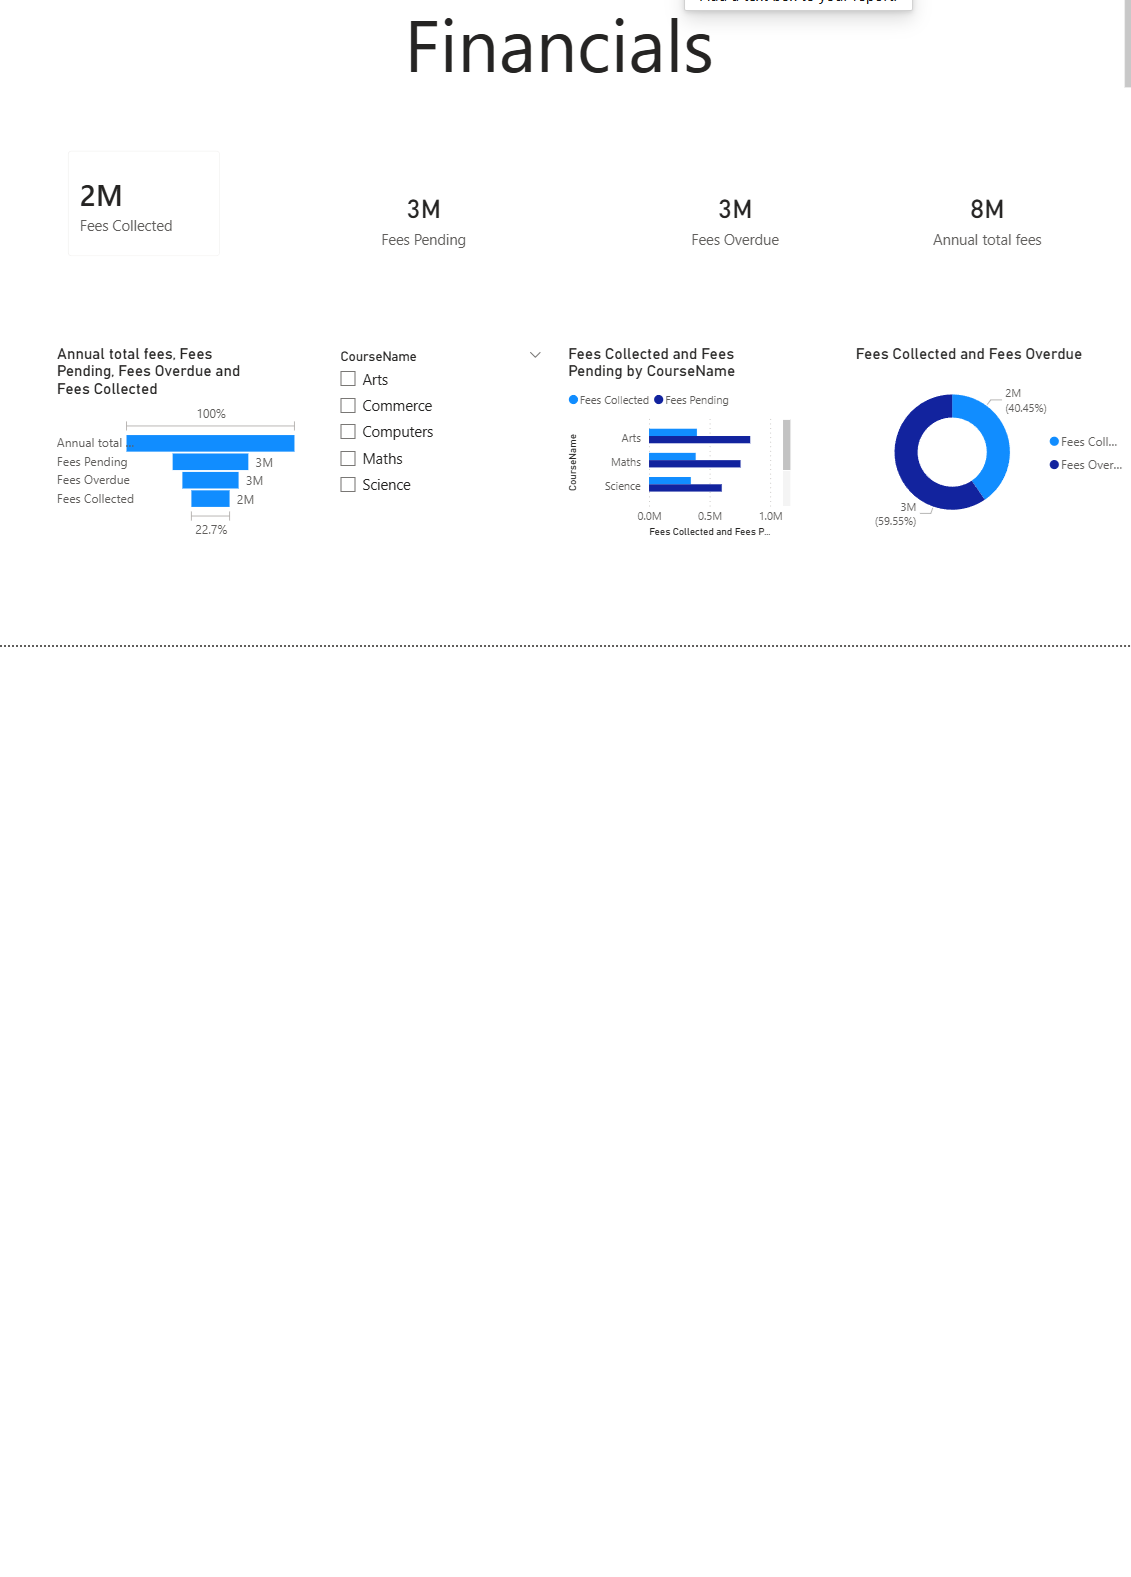

The page's visual inventory and layout, read from the dashboard file:
{"tool":"powerbi","page":{"name":"fees","canvas":[1280,720],"ordinal":3},"visuals":[{"type":"textbox","box":[22,0,1258.3,114.9],"z":0},{"type":"cardVisual","fields":{"Data":["Measures1.Total Fees collected"]},"box":[90.5,160.2,201.8,150.4],"z":1000},{"type":"card","fields":{"Values":["Measures1.Pending fees"]},"box":[375.4,176.1,244.6,150.4],"z":2000},{"type":"card","fields":{"Values":["Measures1.Annual total fees"]},"box":[953.8,176.1,326.5,150.4],"z":3000},{"type":"card","fields":{"Values":["Measures1.Fees Overdue"]},"box":[714.1,176.1,253.1,150.4],"z":6000},{"type":"slicer","fields":{"Values":["Dim_Courses.CourseName"]},"box":[393.8,389.7,245.6,216.8],"z":6001},{"type":"funnel","fields":{"Y":["Measures1.Annual total fees","Measures1.Fees Pending","Measures1.Fees Overdue","Measures1.Fees Collected"]},"box":[90.6,389.7,275.8,216.8],"z":6002},{"type":"clusteredBarChart","fields":{"Category":["Dim_Courses.CourseName"],"Y":["Measures1.Fees Collected","Measures1.Fees Pending"]},"box":[651.8,389.7,253.9,216.8],"z":6003},{"type":"donutChart","fields":{"Y":["Measures1.Fees Collected","Measures1.Fees Overdue"]},"box":[967,390,313,217],"z":6004}]}

Visuals, with their boxes on the page's 1280x720 design canvas (x1, y1, x2, y2). These are canvas units, not pixel positions in the 1131x1577 screenshot, which may show the page scaled, cropped or inside an application window:
textbox: {"left": 22, "top": 0, "right": 1280, "bottom": 115}
cardVisual - Measures1.Total Fees collected: {"left": 90, "top": 160, "right": 292, "bottom": 311}
card - Measures1.Pending fees: {"left": 375, "top": 176, "right": 620, "bottom": 326}
card - Measures1.Annual total fees: {"left": 954, "top": 176, "right": 1280, "bottom": 326}
card - Measures1.Fees Overdue: {"left": 714, "top": 176, "right": 967, "bottom": 326}
slicer - Dim_Courses.CourseName: {"left": 394, "top": 390, "right": 639, "bottom": 606}
funnel - Measures1.Annual total fees x Measures1.Fees Pending: {"left": 91, "top": 390, "right": 366, "bottom": 606}
clusteredBarChart - Dim_Courses.CourseName x Measures1.Fees Collected: {"left": 652, "top": 390, "right": 906, "bottom": 606}
donutChart - Measures1.Fees Collected x Measures1.Fees Overdue: {"left": 967, "top": 390, "right": 1280, "bottom": 607}
